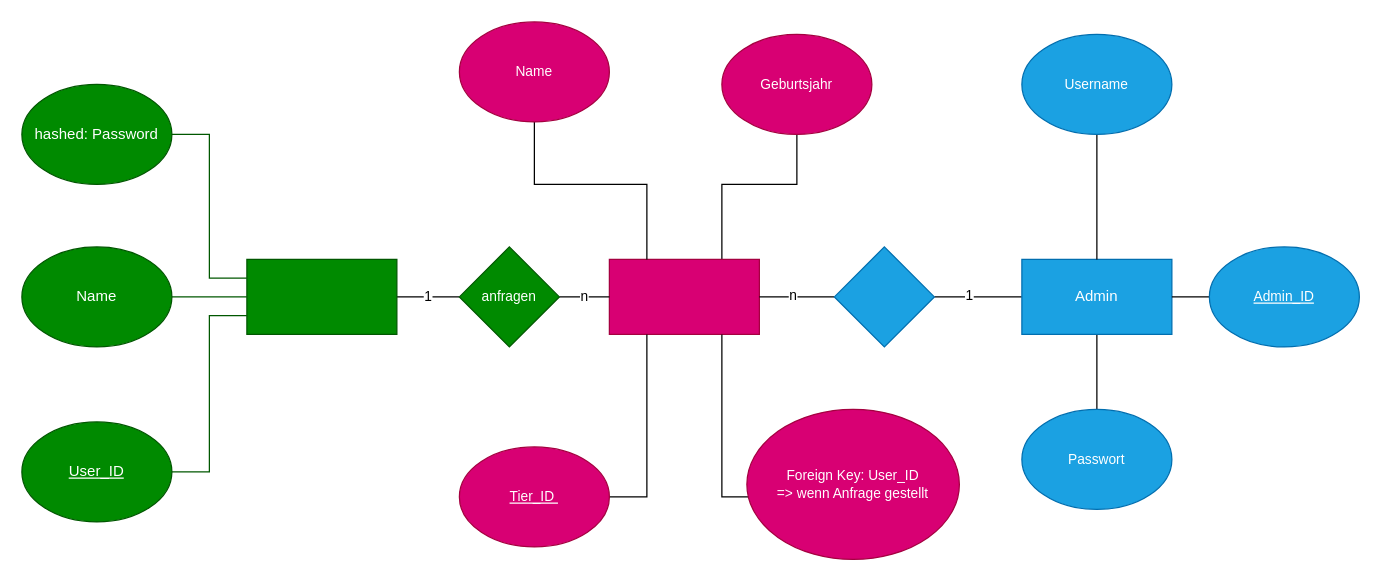
Image size: 1381x581. Some labels were removed from this diagram. The box of each missing label's shape, as (x1, y1, x2, y2) in pixels:
Animal: (608, 258, 759, 334)
bearbeiten: (833, 246, 934, 347)
User: (246, 258, 397, 334)
